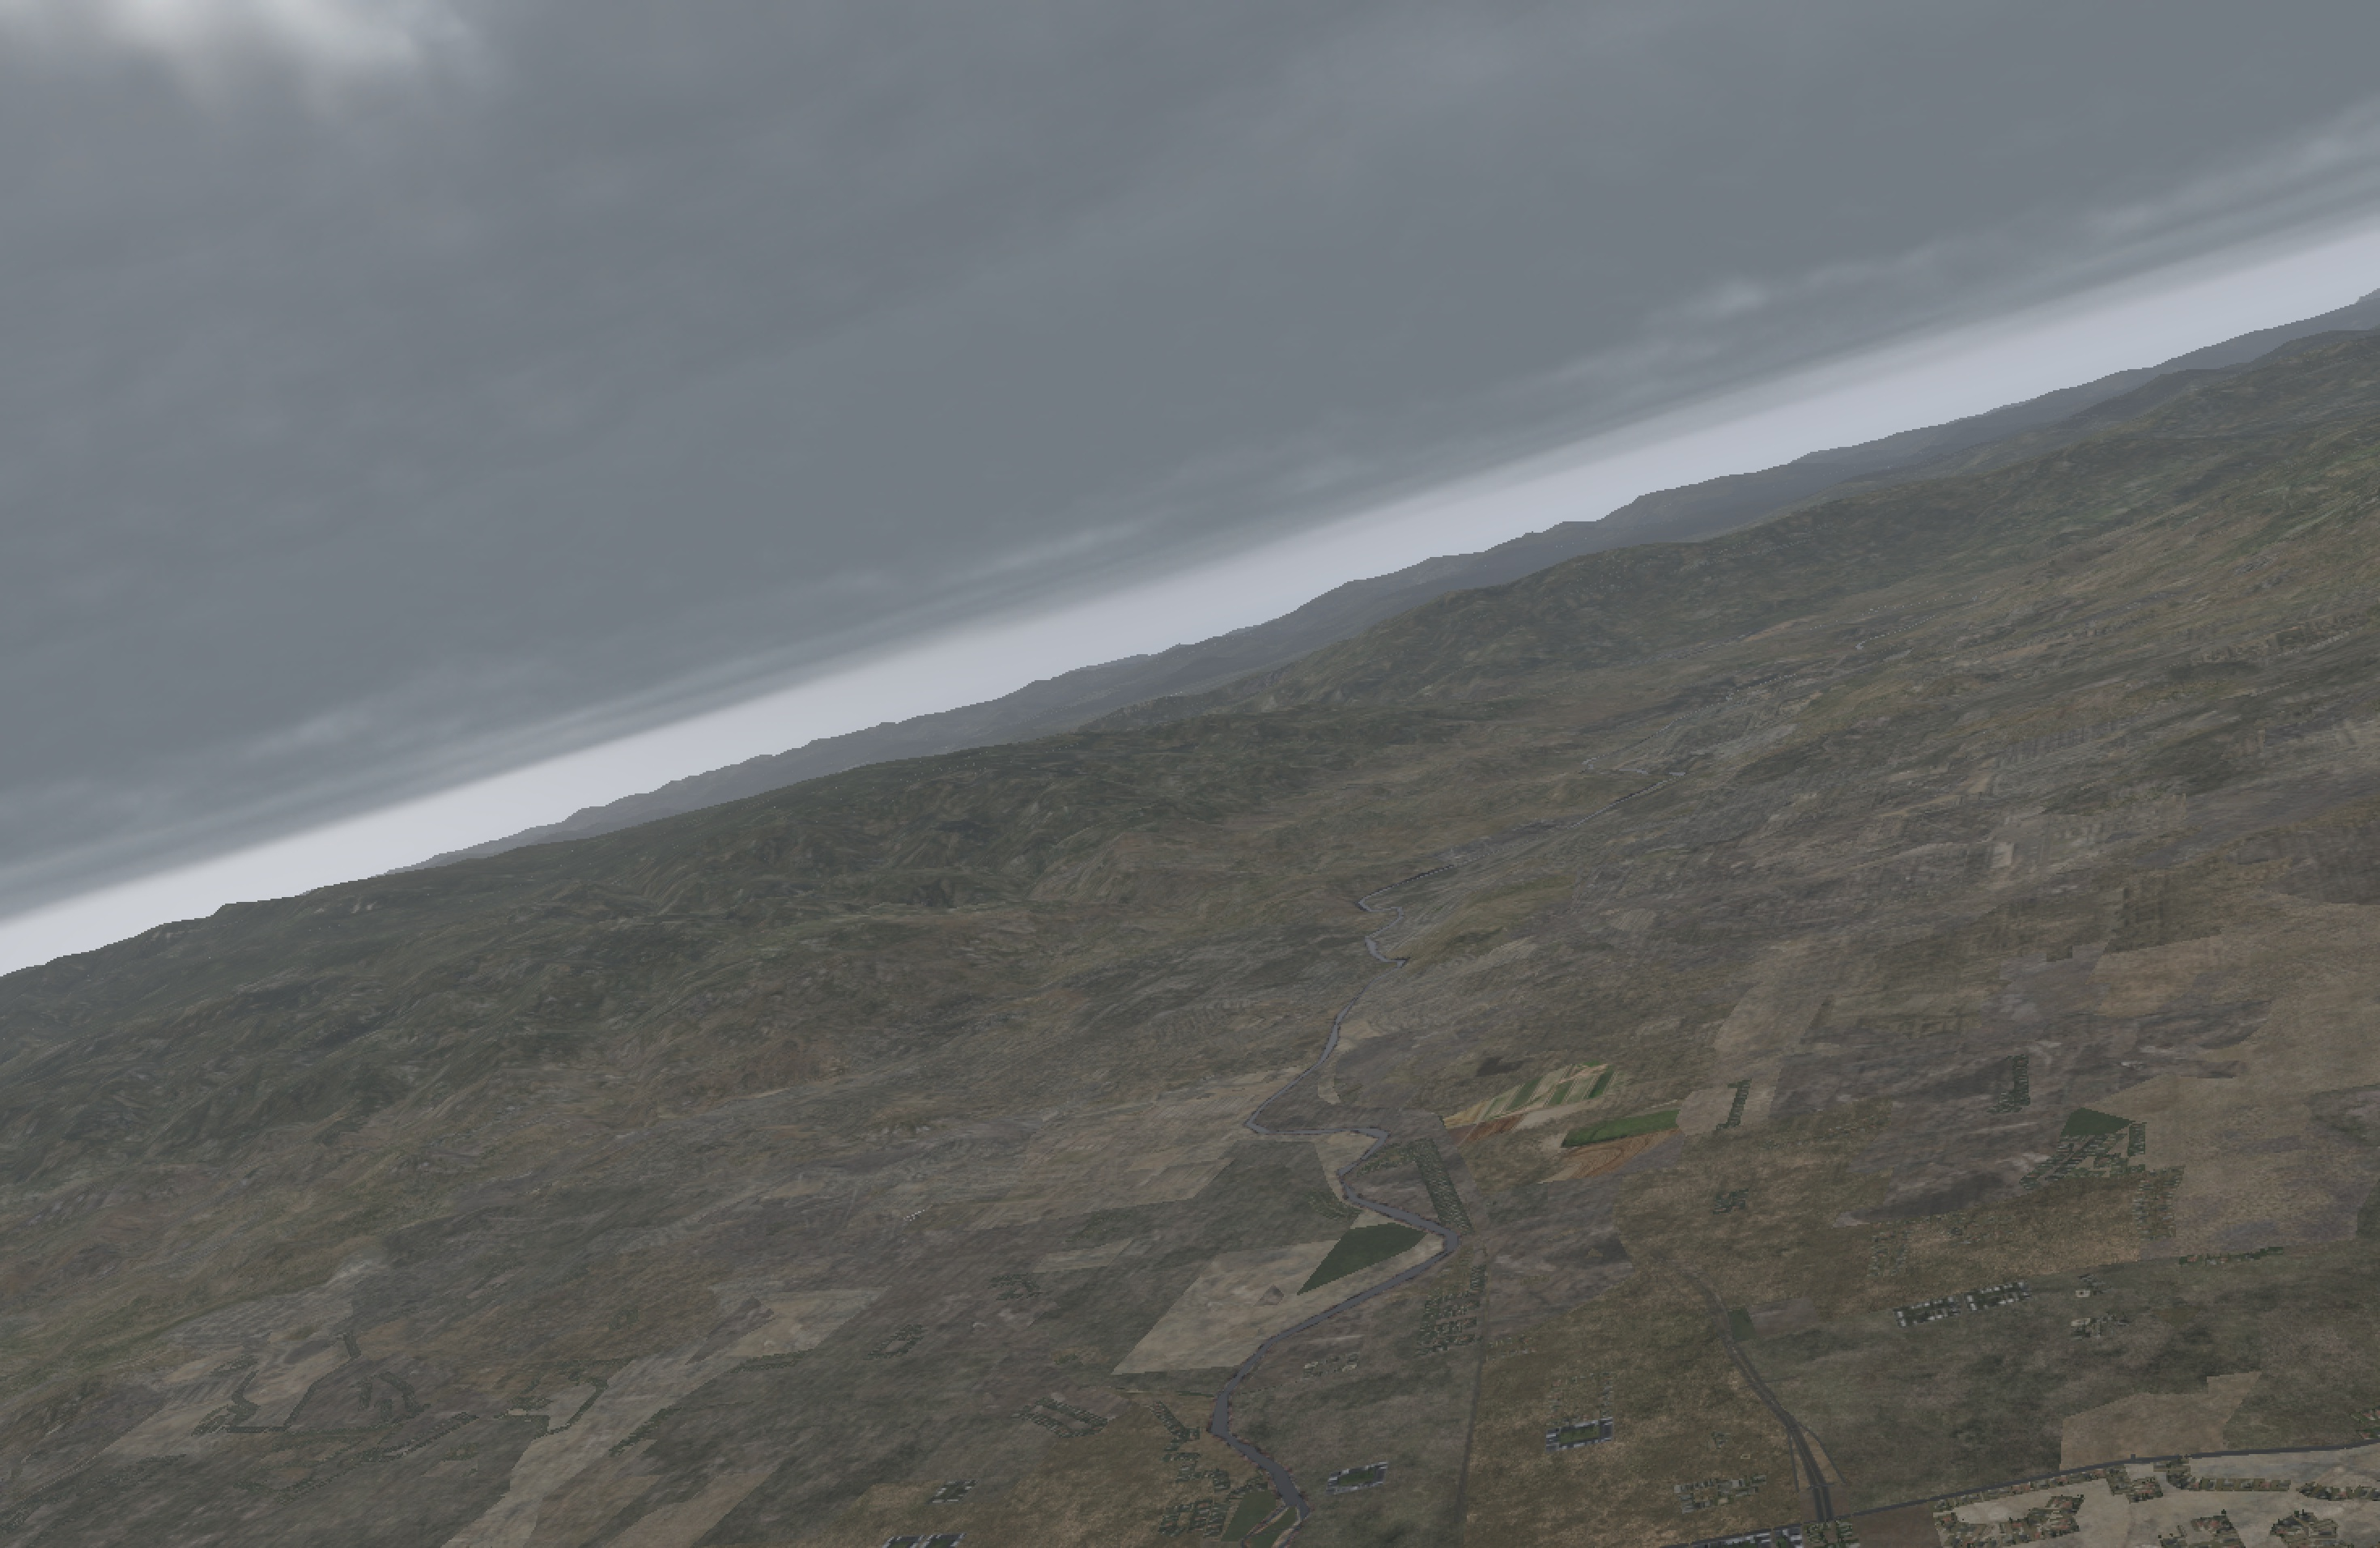aircraft: (906, 1211, 925, 1218)
